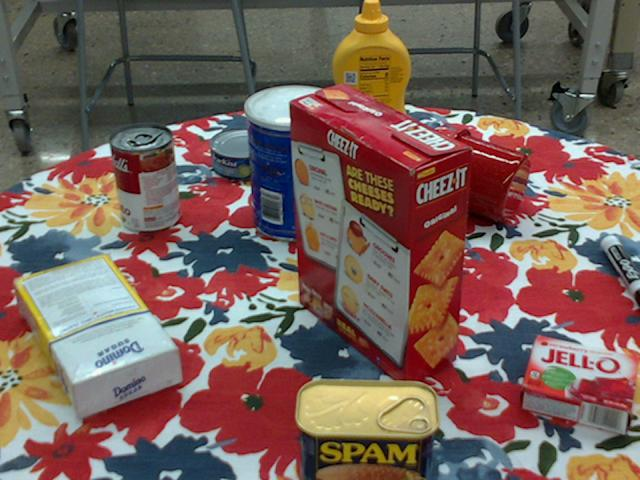cracker_box: (288, 86, 469, 390)
gelatin_box: (518, 335, 636, 431)
large_marker: (601, 233, 639, 307)
master_chef_can: (244, 84, 342, 242)
mug: (432, 128, 528, 221)
mustard_bottle: (331, 0, 409, 157)
potted_meat_can: (292, 381, 438, 479)
sugar_box: (15, 257, 180, 416)
tomato_soup_can: (109, 124, 179, 233)
tuna_fish_can: (211, 126, 280, 179)
